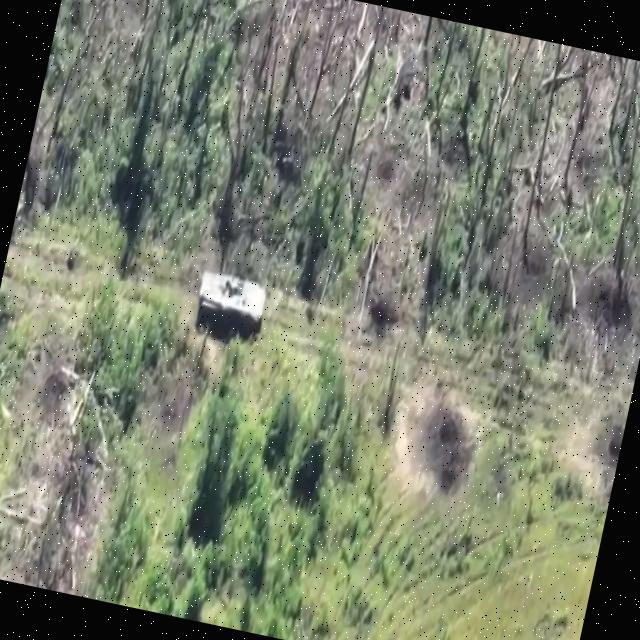AIFV: (190, 265, 273, 347)
